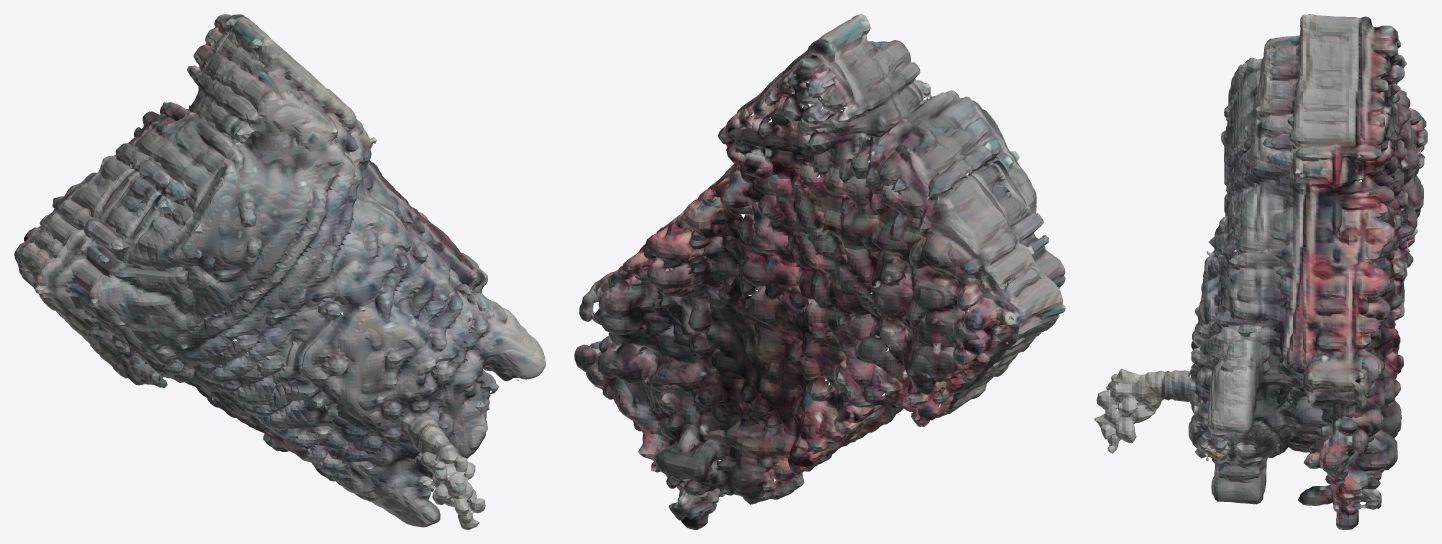
The model's file is 000006_locomotive_loc_train.glb.
3 views of the same model, side by side, from view 1: azimuth 30°, elevation 25°; view 2: azimuth 150°, elevation 25°; view 3: azimuth 270°, elevation 25° (orthographic). The views are drawn at different scales.
Parts seen in each view (by area): view 1: world; view 2: world; view 3: world.
Boxes of the visible parts, x1,y1,x2,y2 form: world: (14,14,545,529); world: (574,14,1065,529); world: (1094,14,1427,529).
Bounding box in the file's own units: 1.01 × 1.04 × 0.6924.
